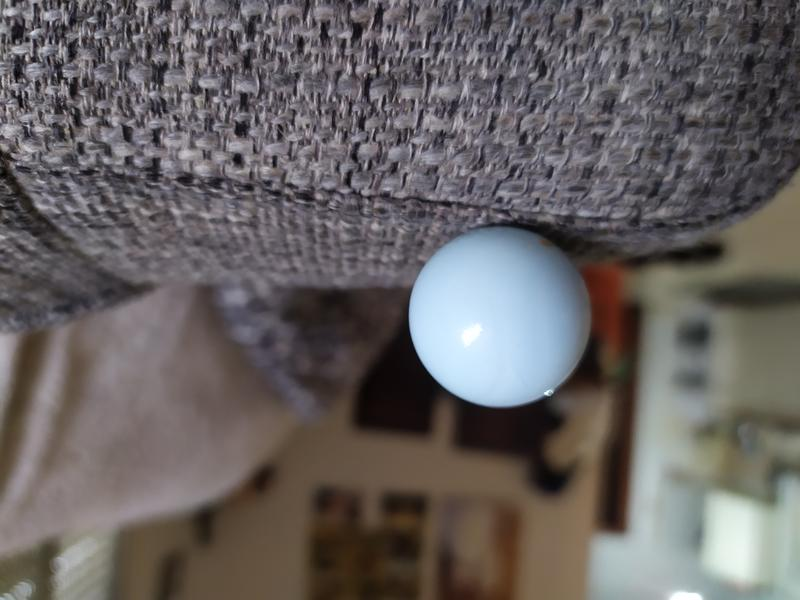Warning: (404, 219, 598, 414)
